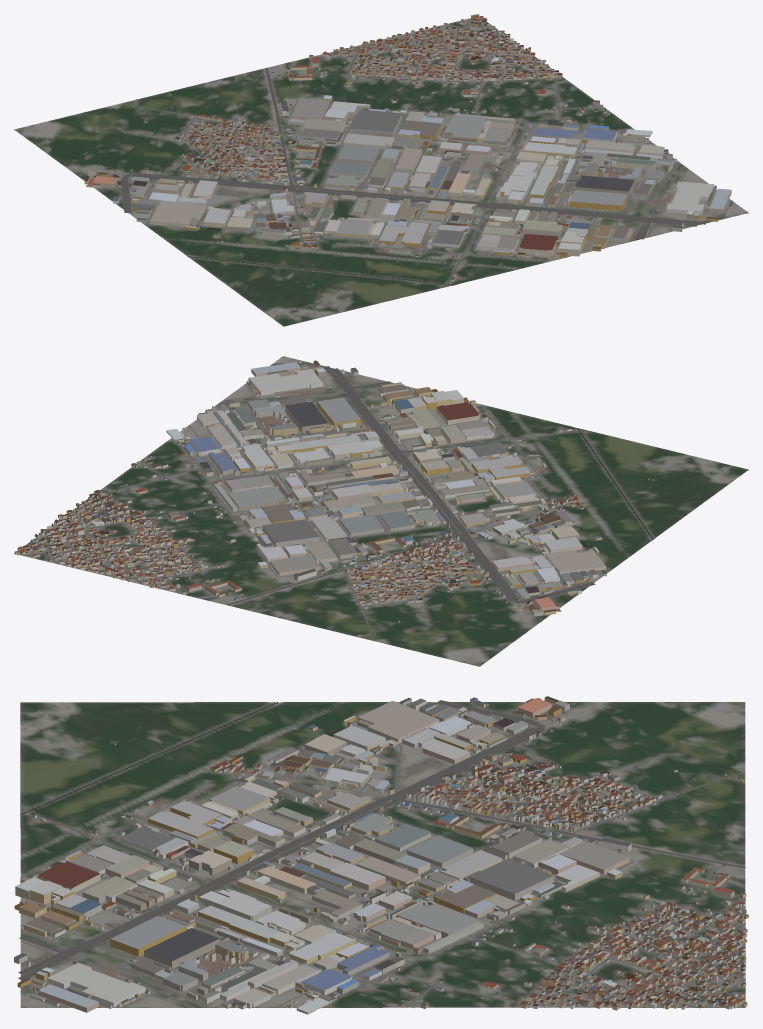
3 renders of one model, top to bottom at view 1: azimuth 30°, elevation 25°; view 2: azimuth 150°, elevation 25°; view 3: azimuth 270°, elevation 25°, orthographic. The views are drawn at different scales.
Parts seen in each view (by area): view 1: ground, buildings, roads; view 2: ground, buildings, roads; view 3: ground, buildings, roads.
Boxes of the visible parts, x1,y1,x2,y2 form: ground: (14,16,748,326); buildings: (84,14,733,285); roads: (102,18,746,288); ground: (14,356,748,666); buildings: (14,360,649,636); roads: (22,356,654,637); ground: (20,702,745,1007); buildings: (14,696,748,1014); roads: (18,700,745,1008).
Size of the model in its own units: 1444 by 26.35 by 1421.
